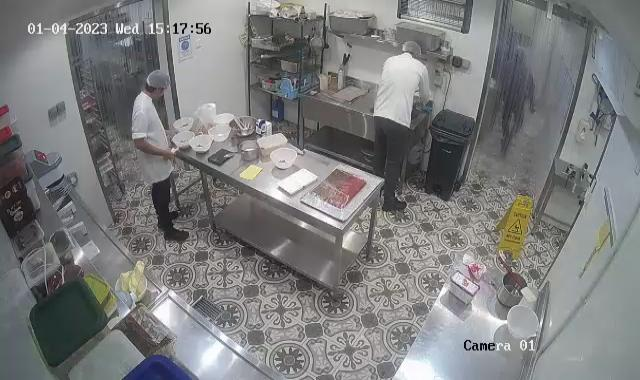hairnet: (144, 67, 171, 94), (398, 40, 424, 59)
